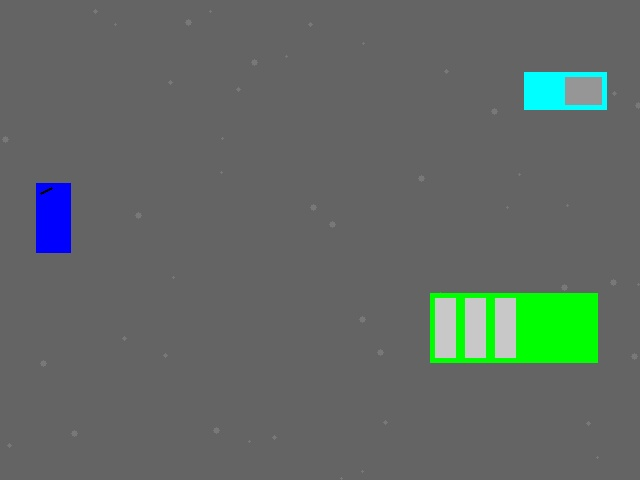bus: (430, 293, 597, 362)
motorcycle: (36, 183, 70, 252)
truck: (524, 72, 606, 109)
